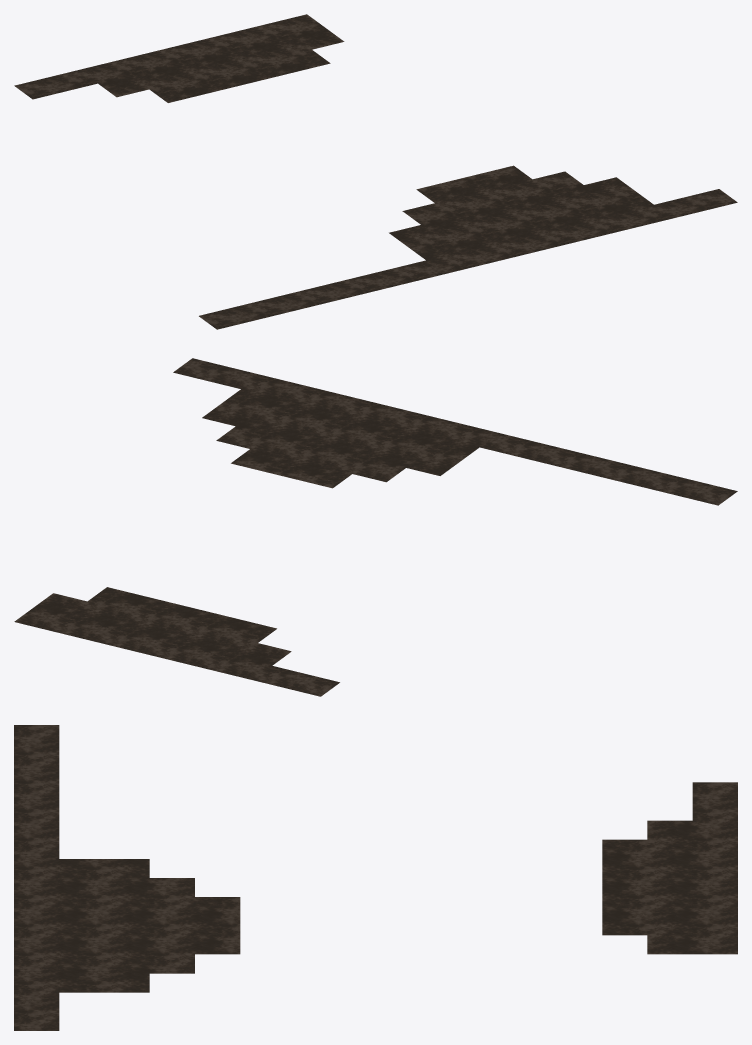
File: floor_-2_-3.glb
3 renders of one model, top to bottom at view 1: azimuth 30°, elevation 25°; view 2: azimuth 150°, elevation 25°; view 3: azimuth 270°, elevation 25°, orthographic. The views are drawn at different scales.
Visible parts, largest first — view 1: floor_-2_-3; view 2: floor_-2_-3; view 3: floor_-2_-3.
Part boxes in pixels (x1=…): floor_-2_-3: x1=14, y1=14, x2=737, y2=329; floor_-2_-3: x1=14, y1=358, x2=737, y2=696; floor_-2_-3: x1=14, y1=725, x2=737, y2=1030.
Bounding box in the file's own units: 64 × 0 × 64.
Materials: 1 (1 with a texture image).
